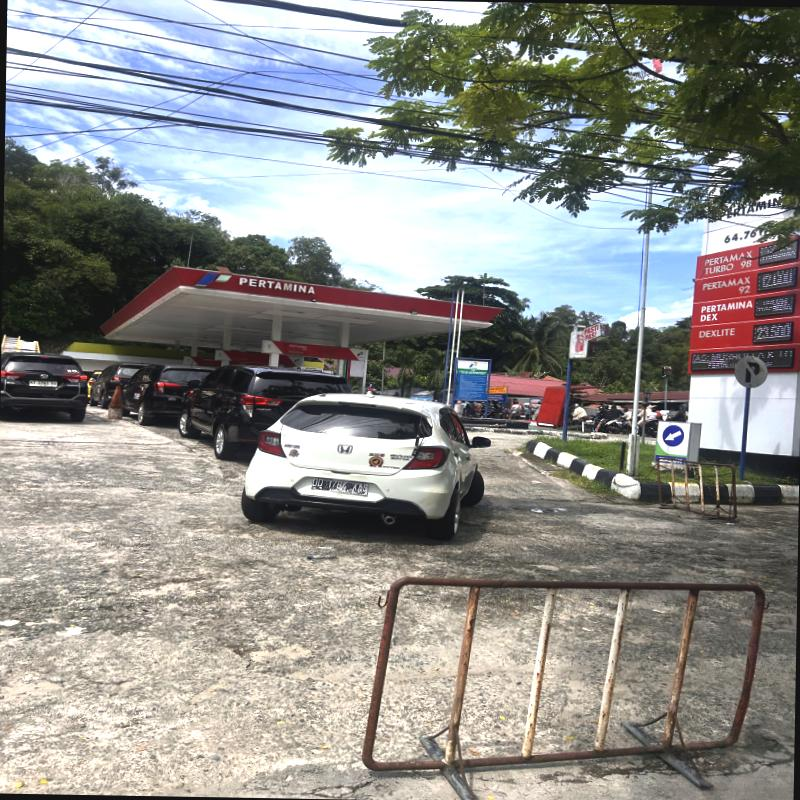license plate on a car: (309, 477, 369, 495)
